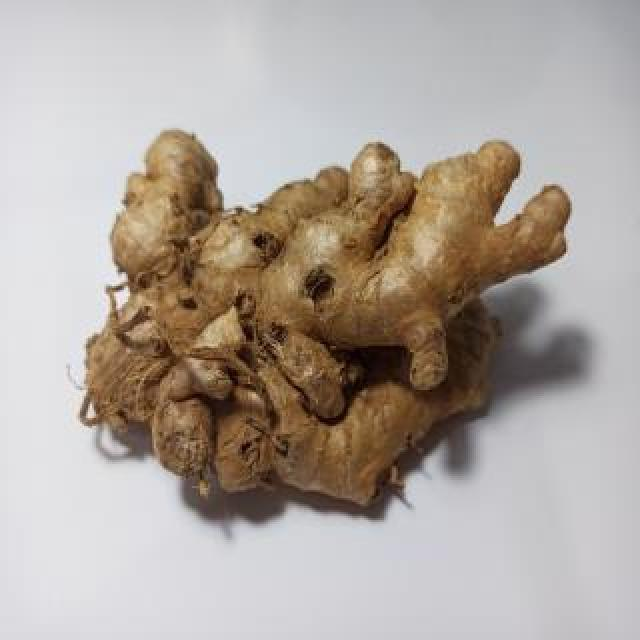ginger: (86, 122, 554, 493)
